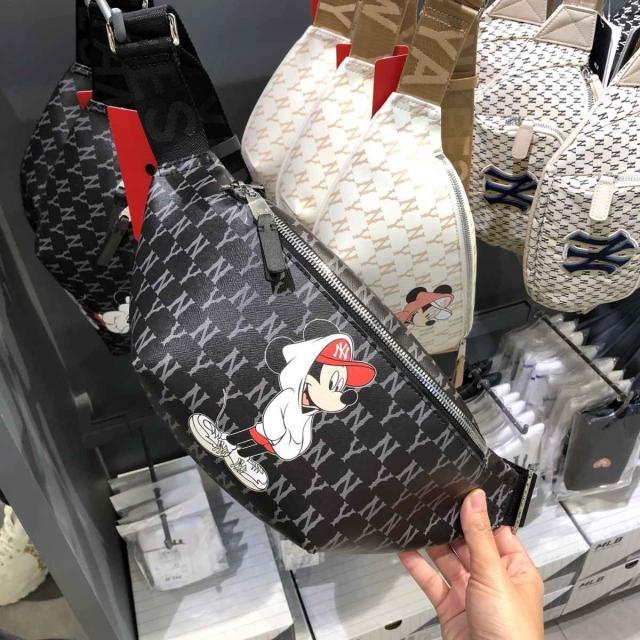Handbag: (127, 140, 544, 568)
